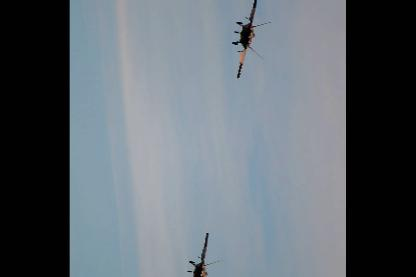F18: (232, 0, 273, 78), (185, 231, 224, 275)
